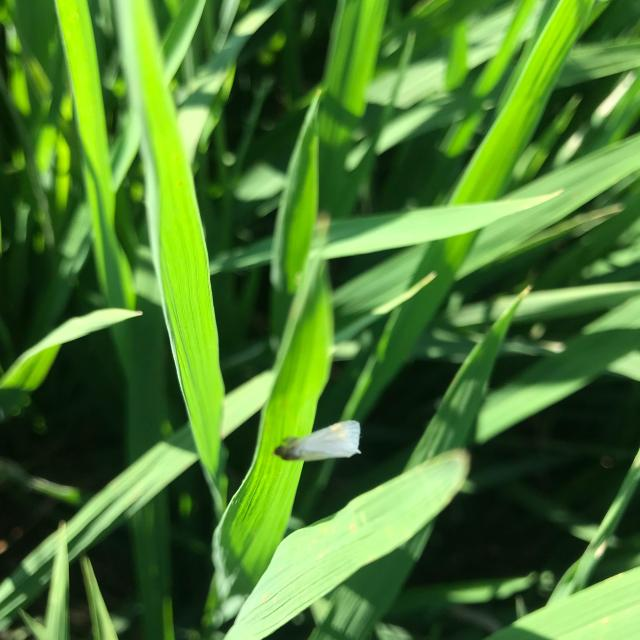wereng pada daun padi: (270, 418, 364, 464)
